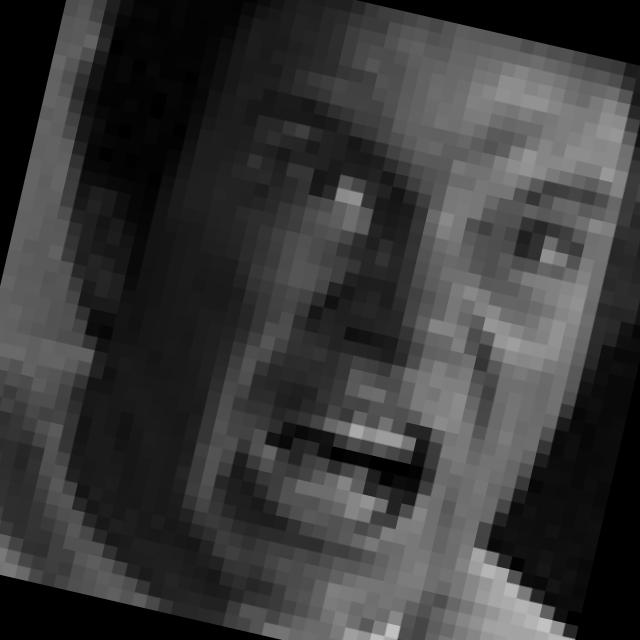angry: (156, 76, 622, 606)
